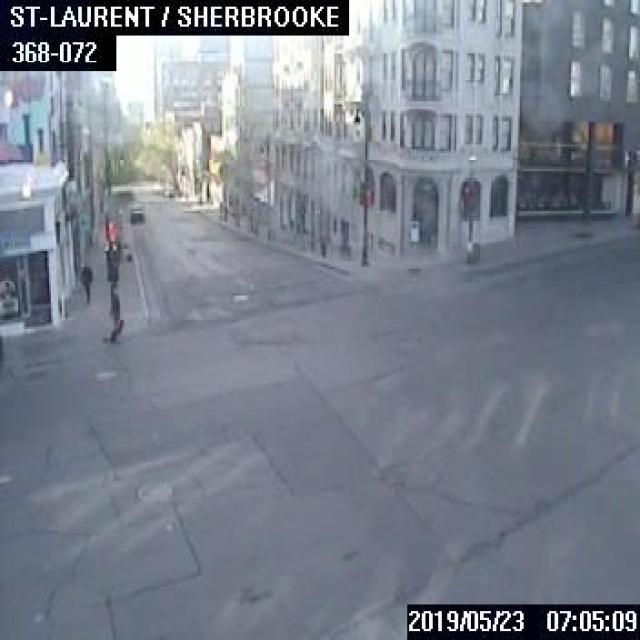pedestrian: (78, 260, 91, 302)
vehicle: (128, 202, 144, 222)
